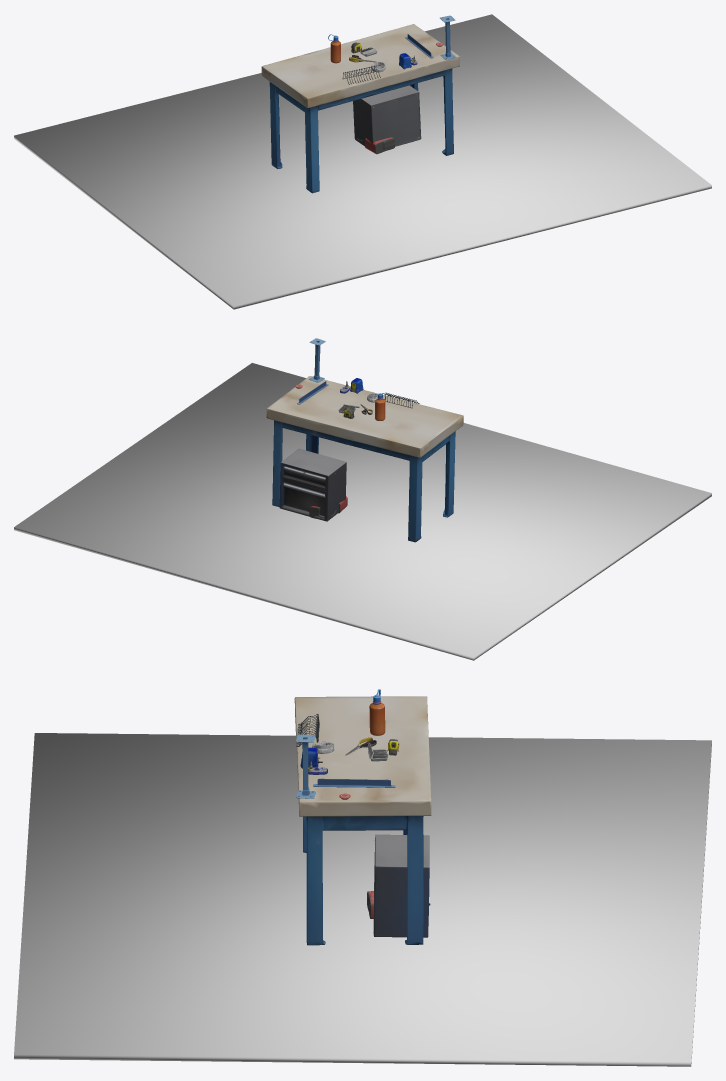
File: rest3d.glb
The picture shows the model from 3 angles, top to bottom: view 1: azimuth 30°, elevation 25°; view 2: azimuth 150°, elevation 25°; view 3: azimuth 270°, elevation 25°; orthographic projection. The views are drawn at different scales.
Parts seen in each view (by area): view 1: ground, World; view 2: ground, World; view 3: ground, World.
Part boxes in pixels (x1,y1,x2,y2): ground: (14, 14, 711, 309); World: (261, 15, 459, 193); ground: (14, 363, 711, 660); World: (266, 338, 463, 542); ground: (14, 733, 711, 1066); World: (294, 689, 431, 945).
Bounding box in the file's own units: 7.81 × 2.31 × 6.66.
